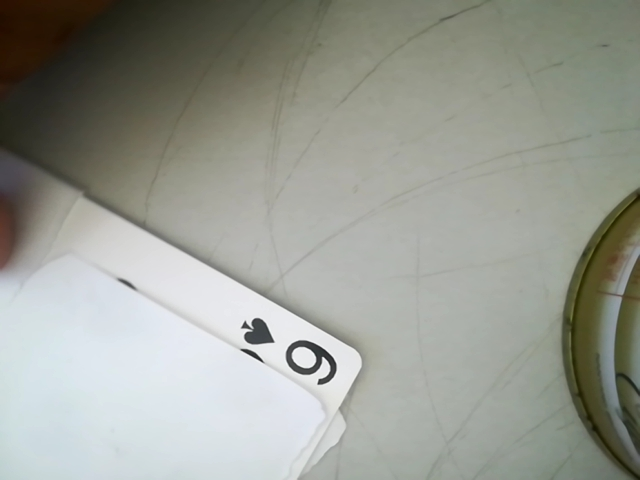ht 6: (226, 308, 352, 387)
